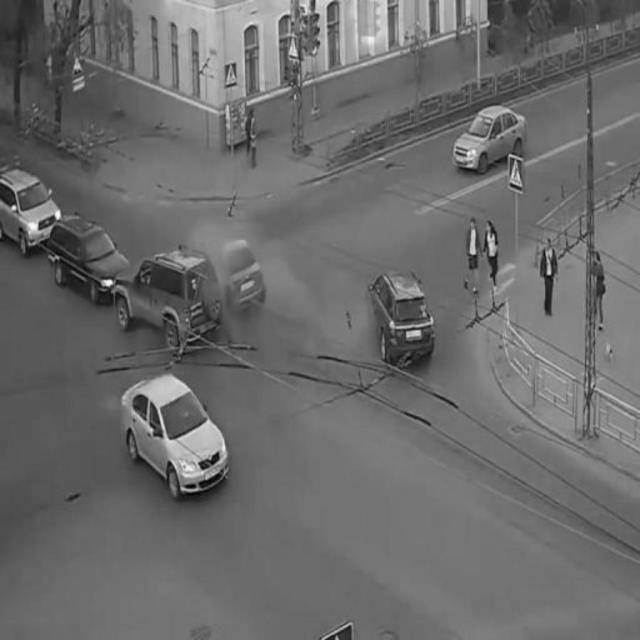accident: (54, 211, 261, 342)
person: (540, 238, 560, 316), (483, 223, 505, 289), (463, 220, 481, 293)
vehicle: (123, 374, 231, 502), (369, 272, 433, 368), (452, 104, 529, 174), (3, 167, 61, 259)
